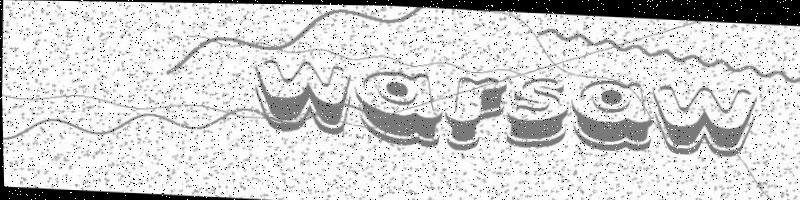a: (351, 66, 445, 144), (563, 74, 656, 152)
r: (442, 71, 508, 148)
s: (501, 68, 572, 148)
w: (245, 53, 356, 135), (647, 78, 761, 157)
